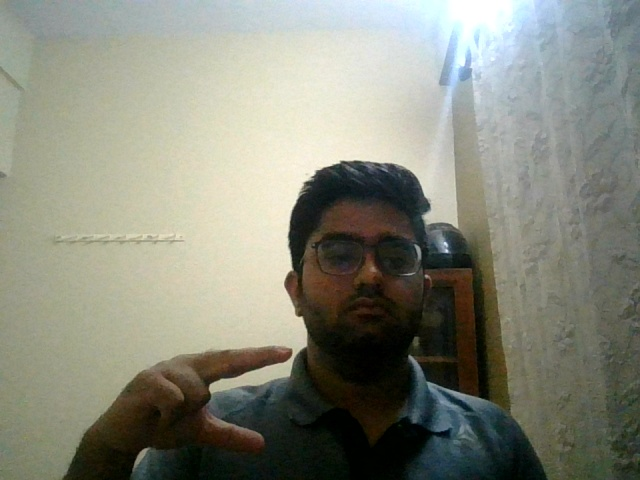No: (63, 310, 307, 467)
